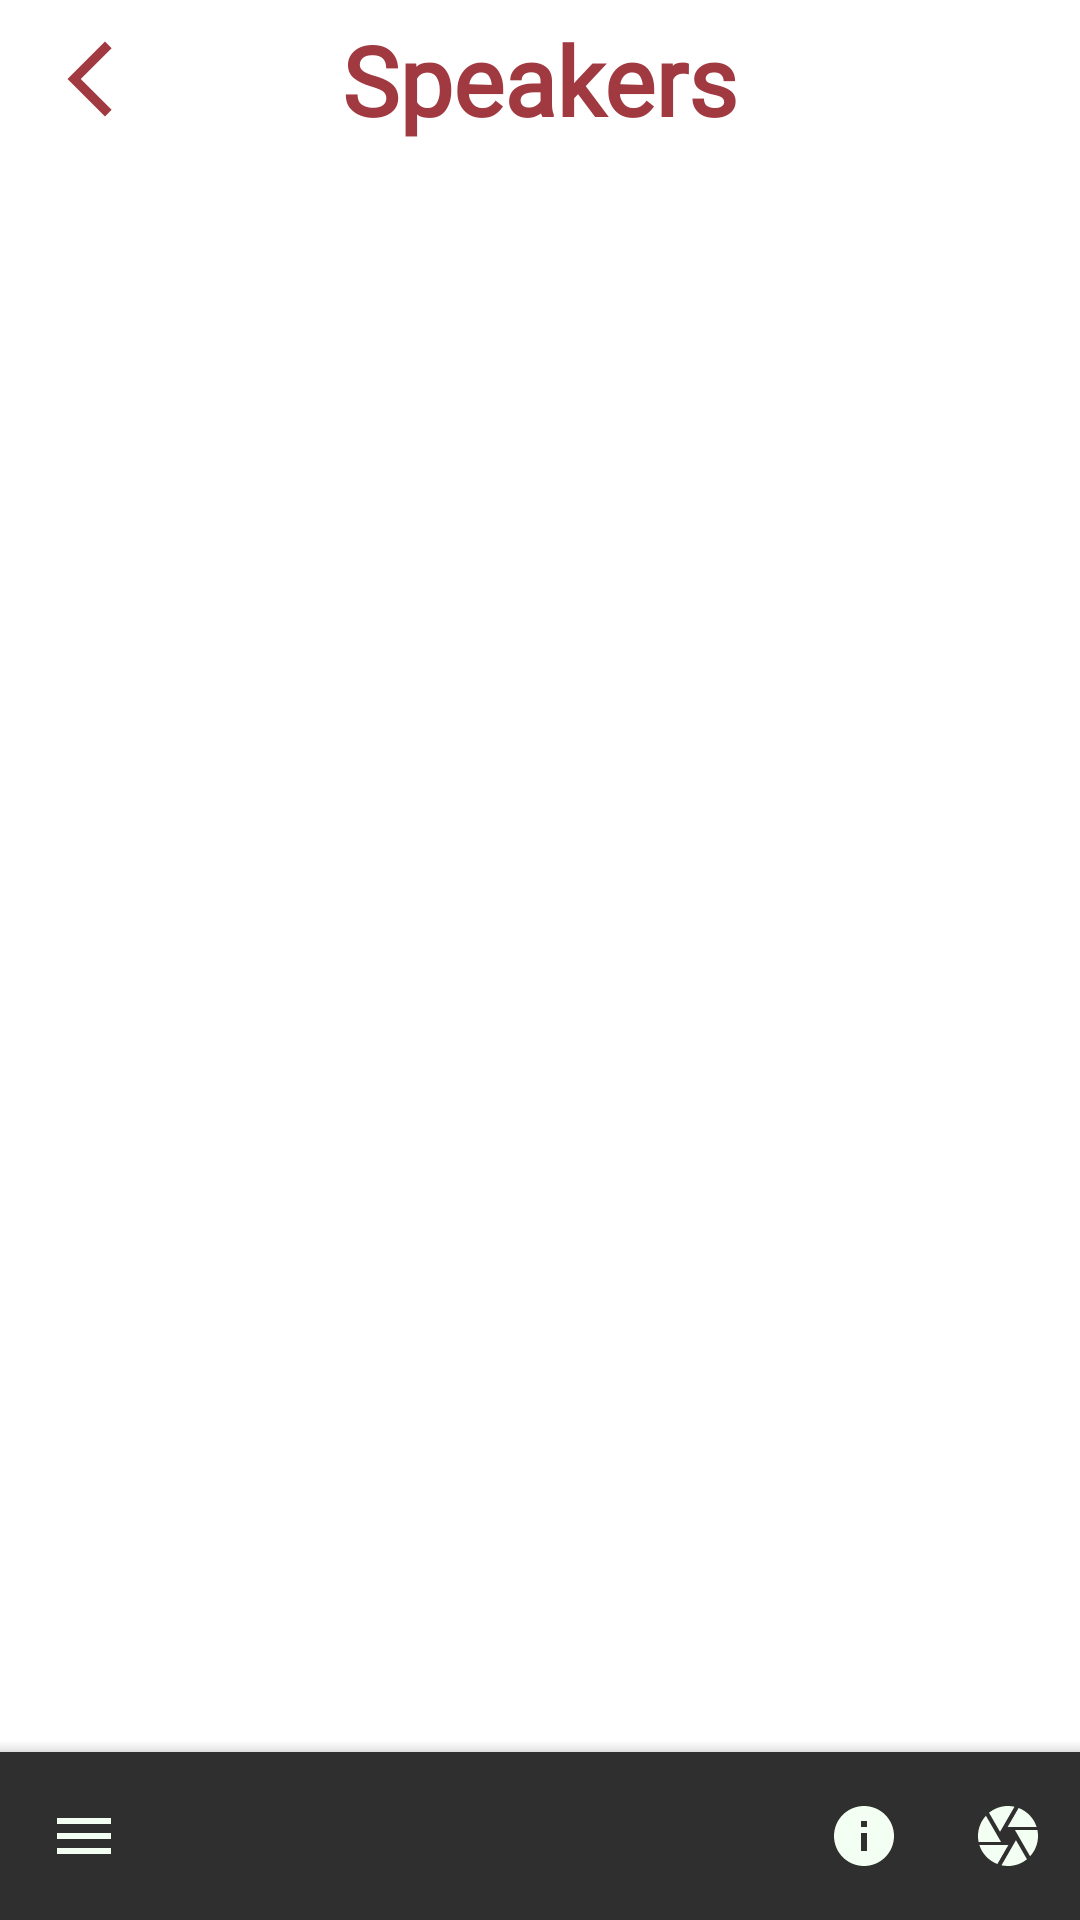

Named icons in this screenshot (1080x1920) and their centers, (x,y):
arrow back: (90,79)
